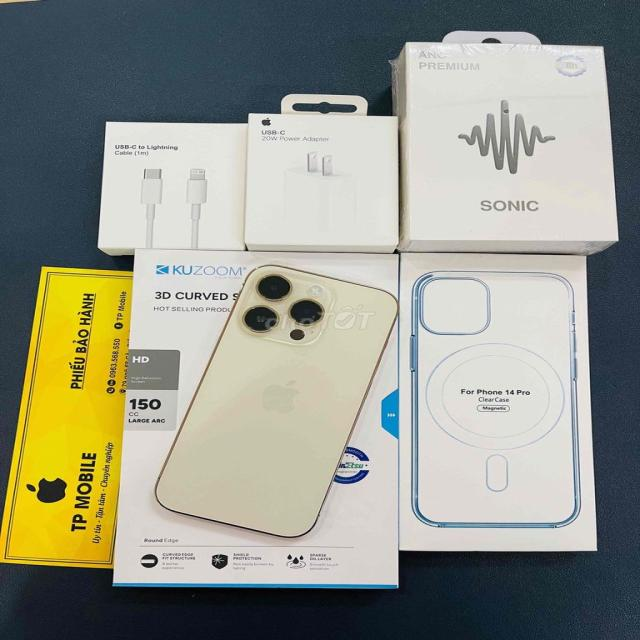gen_14: (147, 254, 398, 536)
